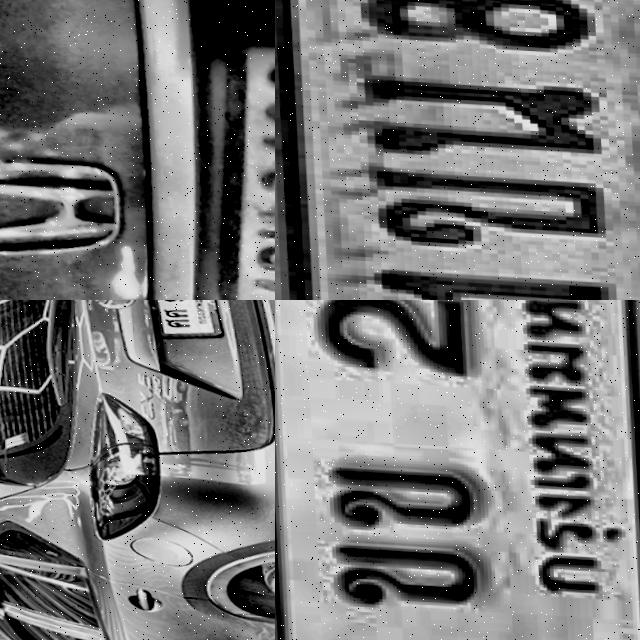license-plate: (275, 300, 640, 640), (275, 0, 640, 300), (213, 43, 275, 300), (143, 300, 218, 336)
